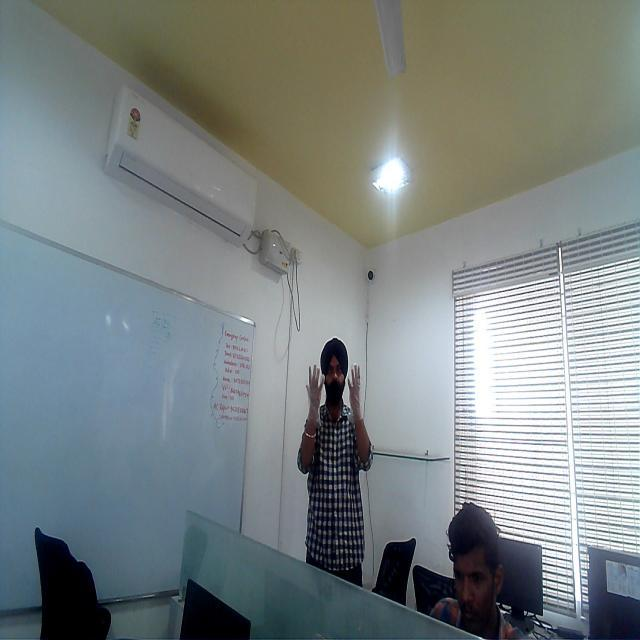with_gloves: (295, 358, 333, 432), (344, 348, 364, 422), (0, 0, 1, 1)
